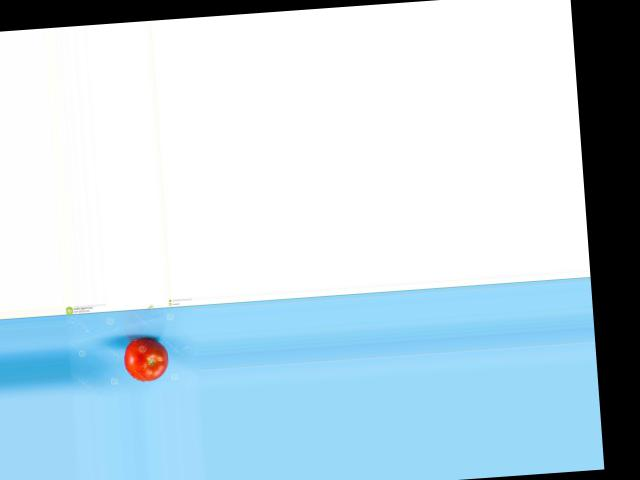tomato: (123, 336, 170, 382)
